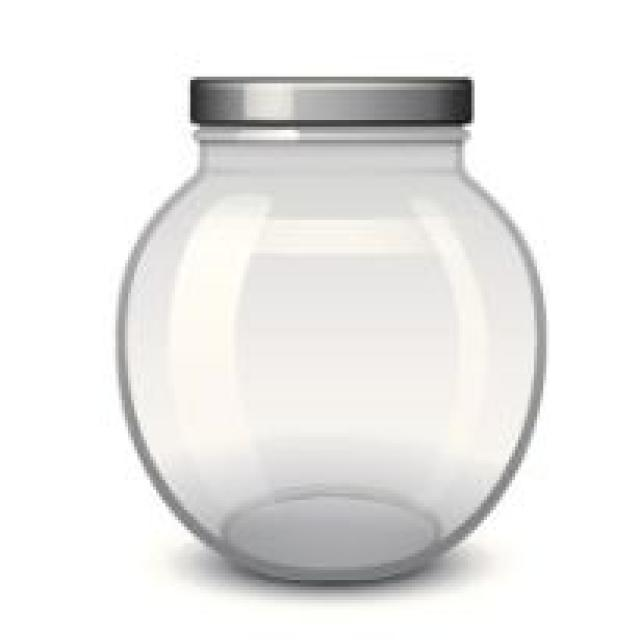electronic: (119, 76, 547, 585)
